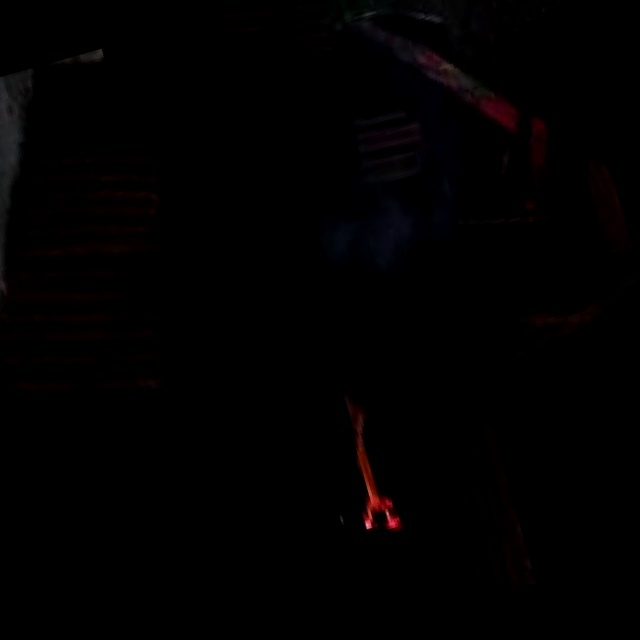fire: (296, 373, 428, 569)
